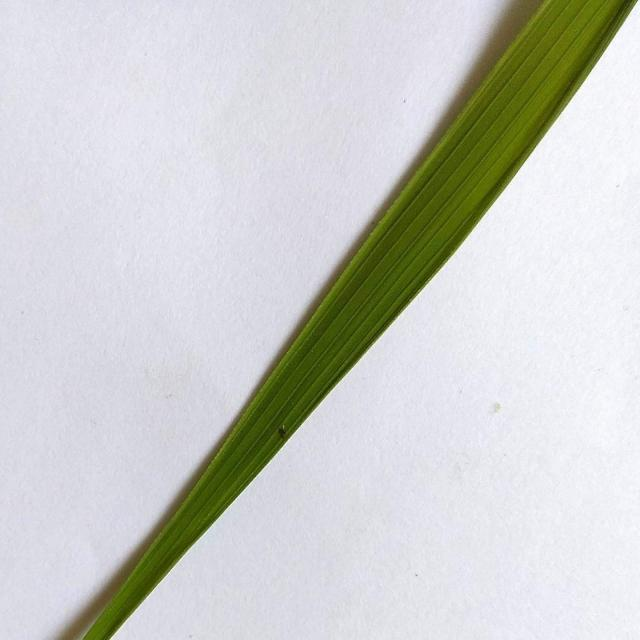healthy: (75, 1, 640, 640)
